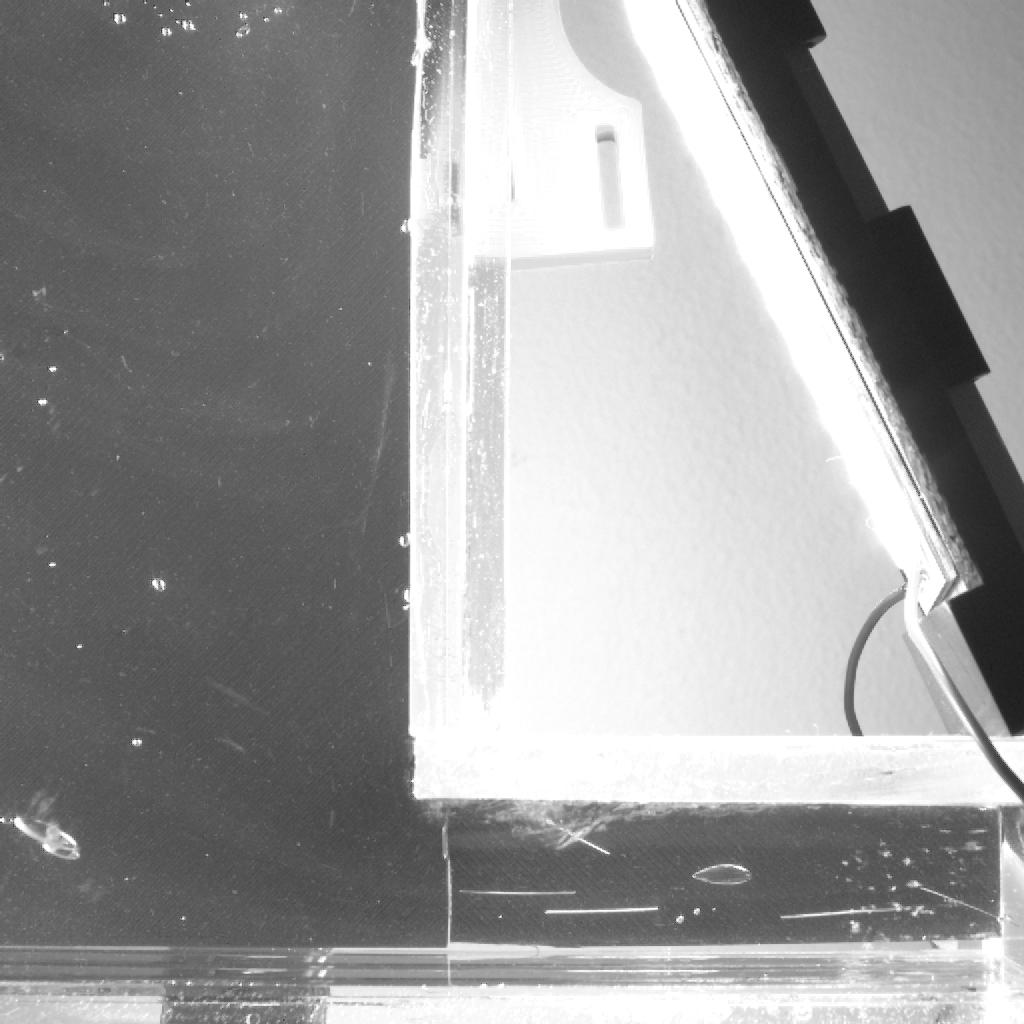Fiber: (510, 802, 613, 857), (918, 885, 1018, 932), (780, 908, 912, 925), (544, 901, 664, 915), (462, 887, 578, 896)
